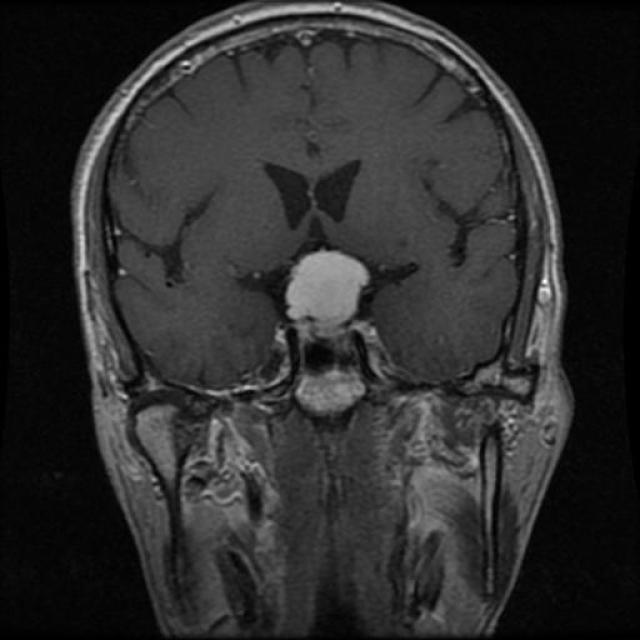Tumor: (281, 250, 375, 325)
